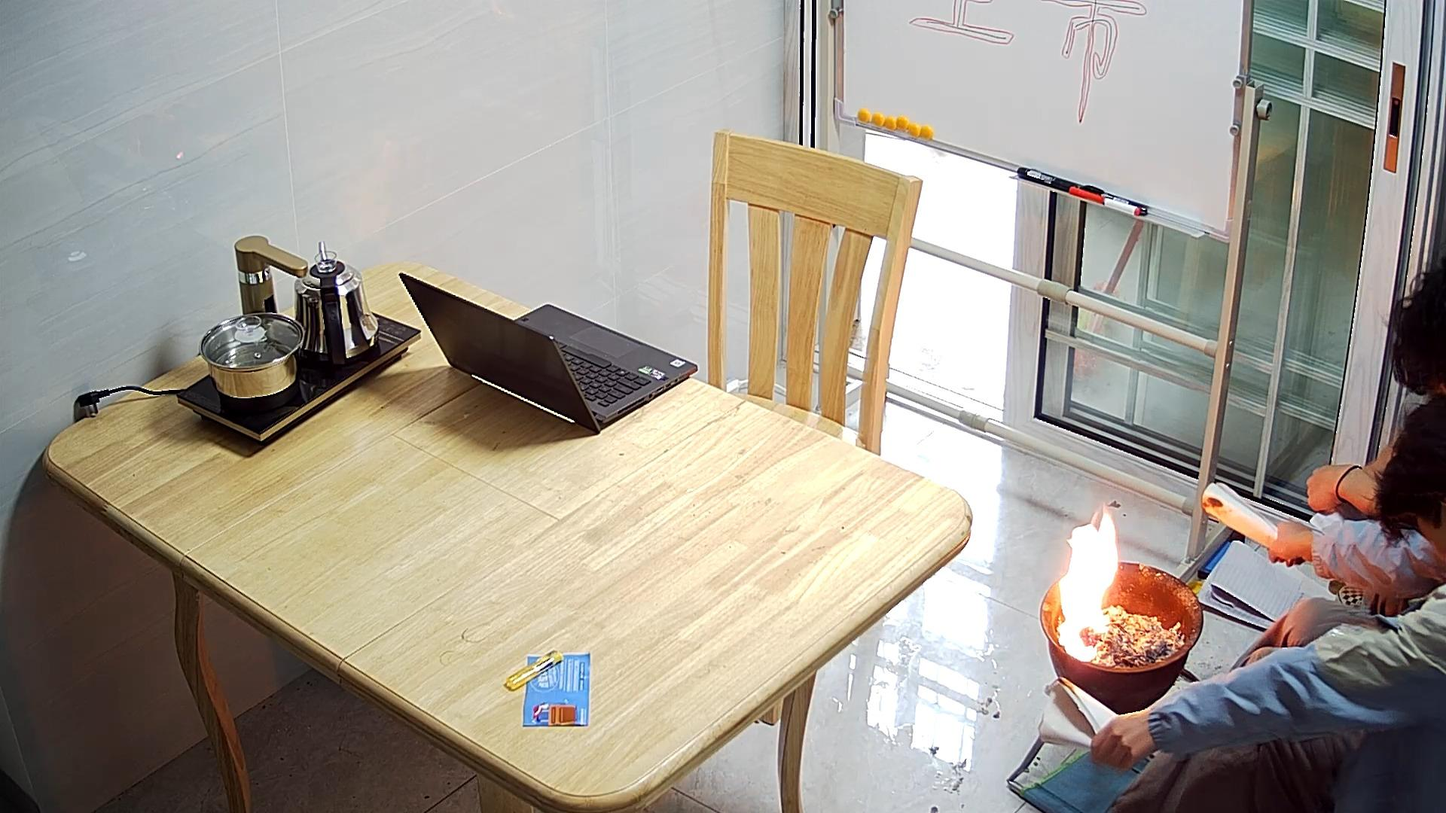fire: (1057, 504, 1119, 661)
